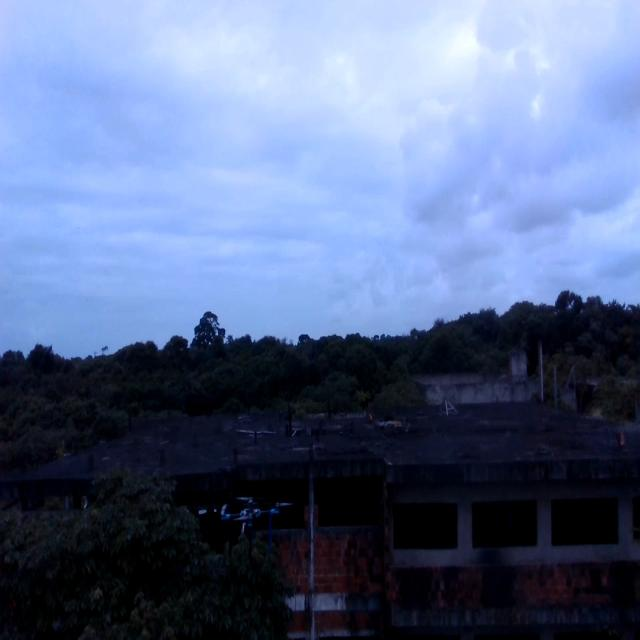-uav-: (200, 486, 302, 582)
